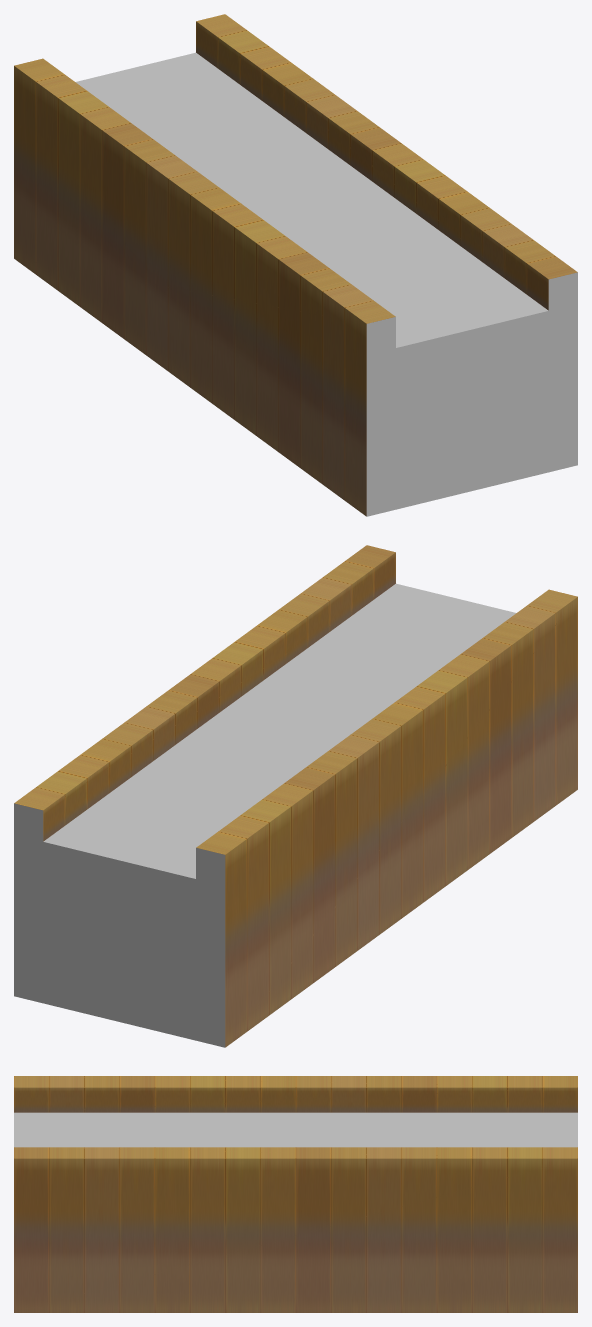
File: Bridge01_d01_col.FBX
The picture shows the model from 3 angles, top to bottom: view 1: azimuth 30°, elevation 25°; view 2: azimuth 150°, elevation 25°; view 3: azimuth 270°, elevation 25°; orthographic projection. The views are drawn at different scales.
Visible parts, largest first — view 1: Bridge01_d01_col; view 2: Bridge01_d01_col; view 3: Bridge01_d01_col.
Part boxes in pixels (x1,y1,x2,y2): Bridge01_d01_col: (14,14,577,516); Bridge01_d01_col: (14,545,577,1047); Bridge01_d01_col: (14,1076,577,1312).
Bounding box in the file's own units: 985 × 860 × 2850.
